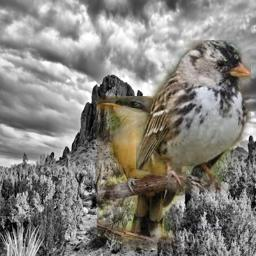Cuckoo: (97, 96, 188, 249)
Sparrow: (136, 40, 251, 194)
